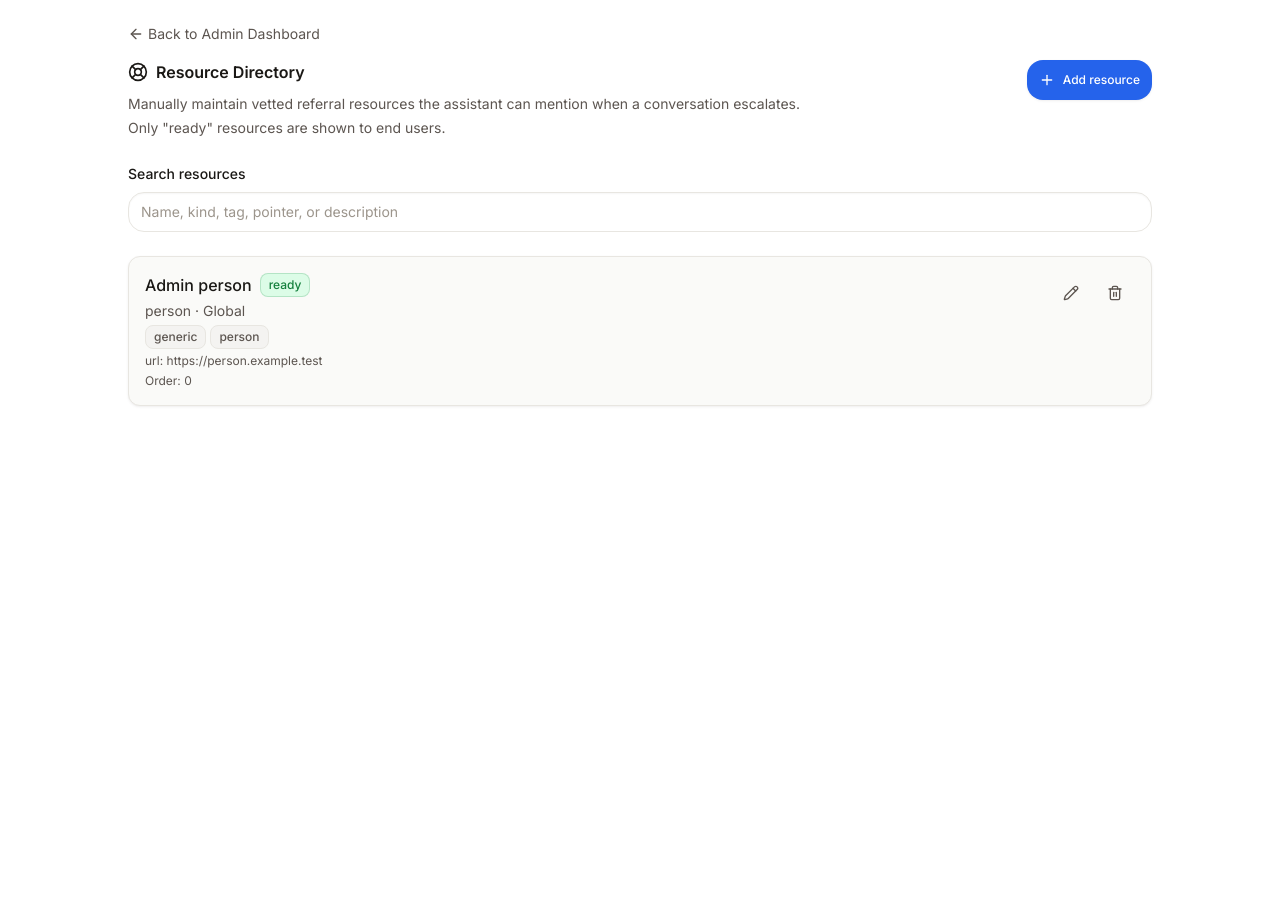
Scenario: AdminResourcesDirectory › renders and opens the generic person contract for editing
expect the text "Admin person" is shown: met, box 145,273 -> 252,297
Click the button named "Edit". click: (1071, 293)
box: 1051,273 -> 1091,313
(page scrolled)
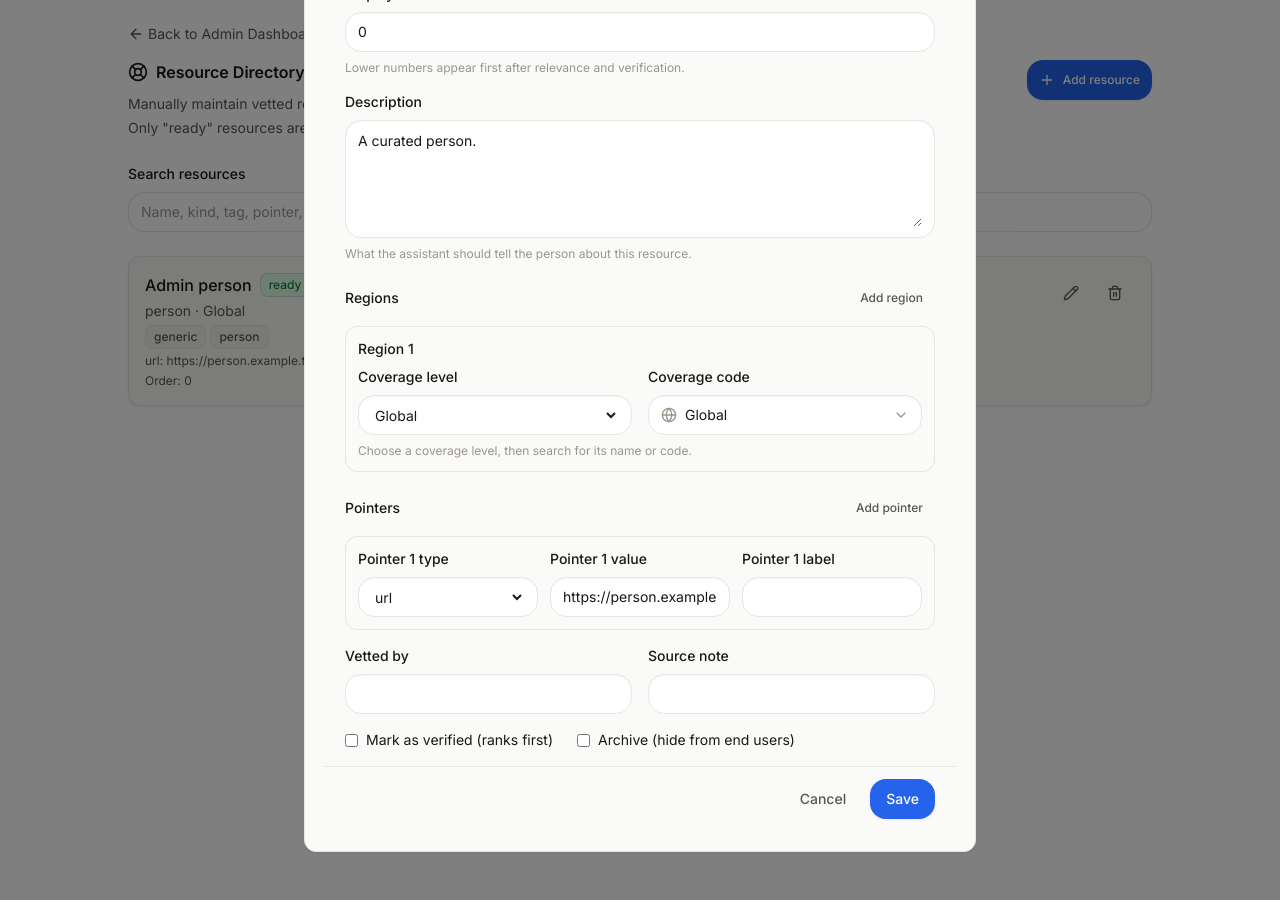
expect the dialog "Edit resource" is shown: met
